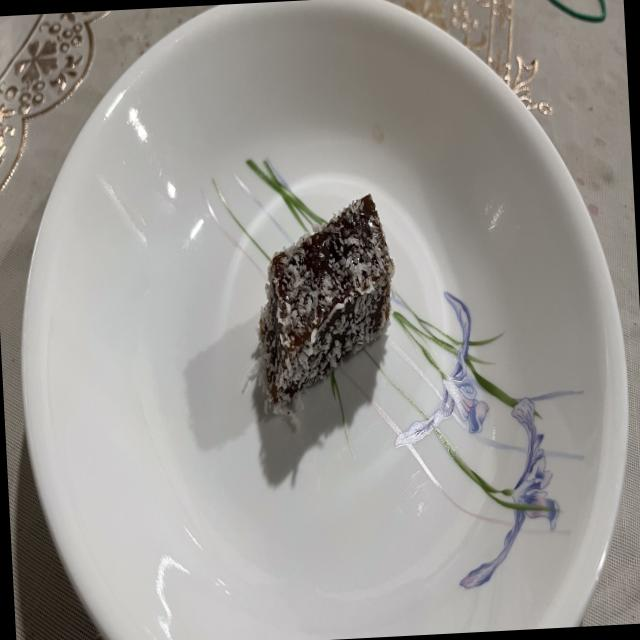kaswi: (257, 195, 394, 415)
